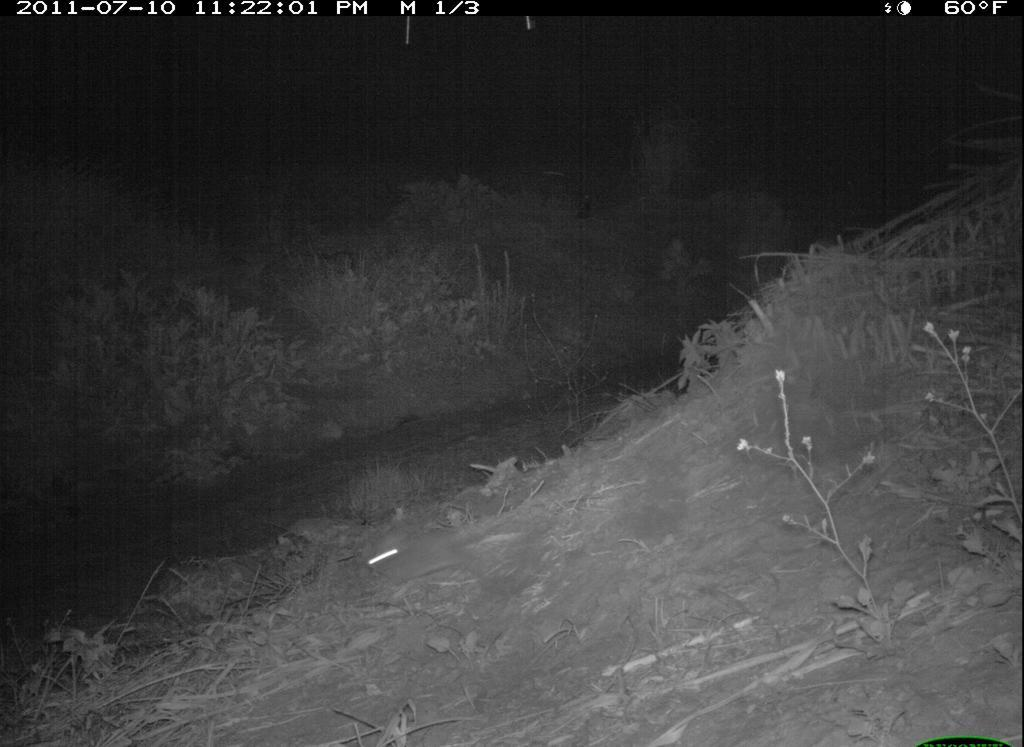rabbit: (361, 520, 500, 602)
